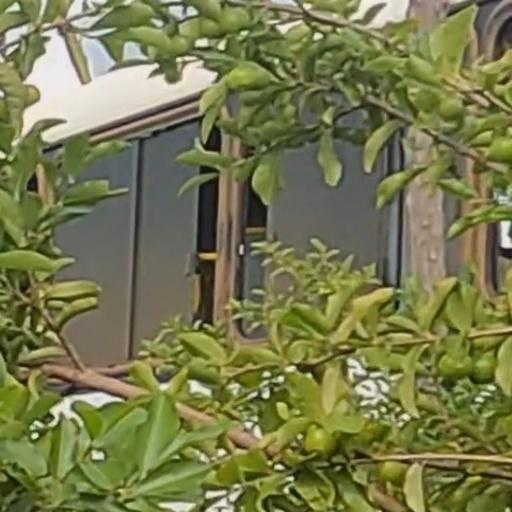acerola_verde: (305, 431, 337, 460), (440, 357, 471, 381), (474, 355, 493, 382)
